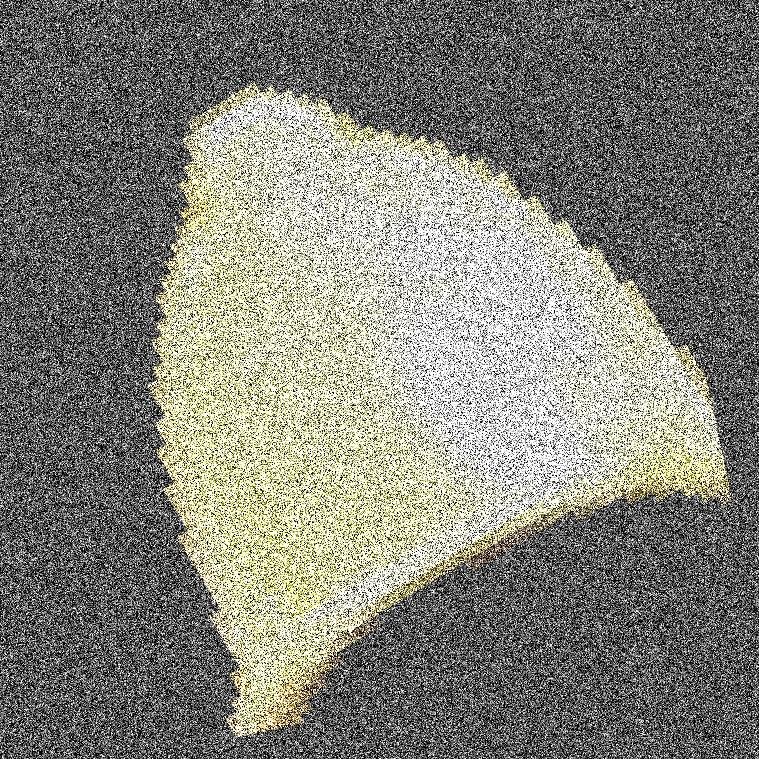Capacete: (250, 0, 610, 758)
